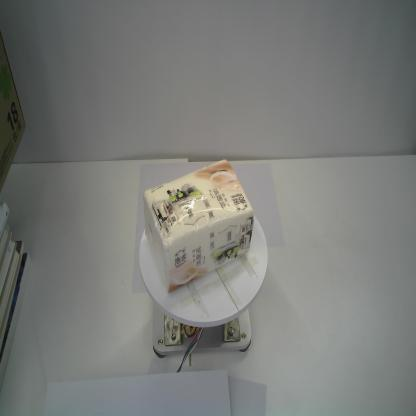Tissue: (141, 154, 255, 295)
